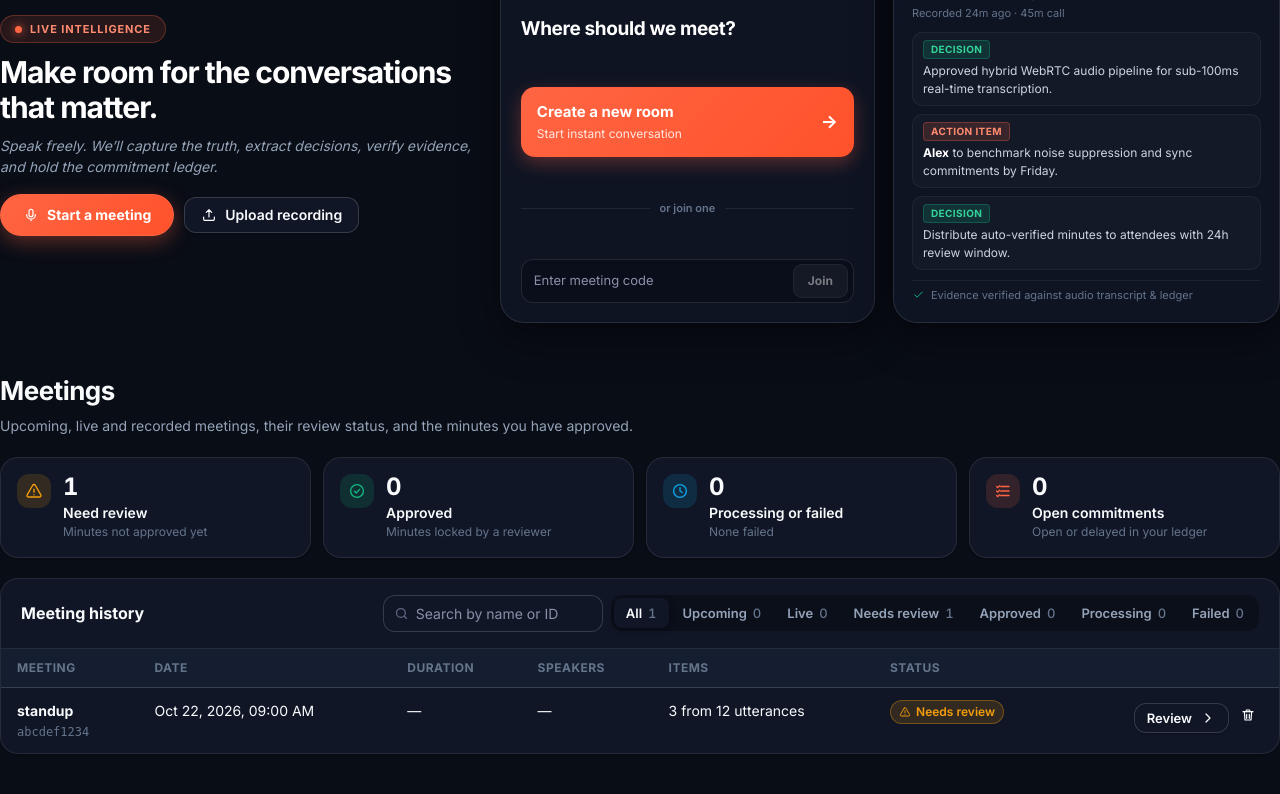
Scenario: Previous meetings › deletes a meeting only after confirmation
(page scrolled)
Cancelling the dialog deletes nothing.
What coordinates should you click on to do the following:
click the button named "Delete meeting abcdef1234"
I would click on:
 (1248, 715)
Its box is [1233,700,1263,730].
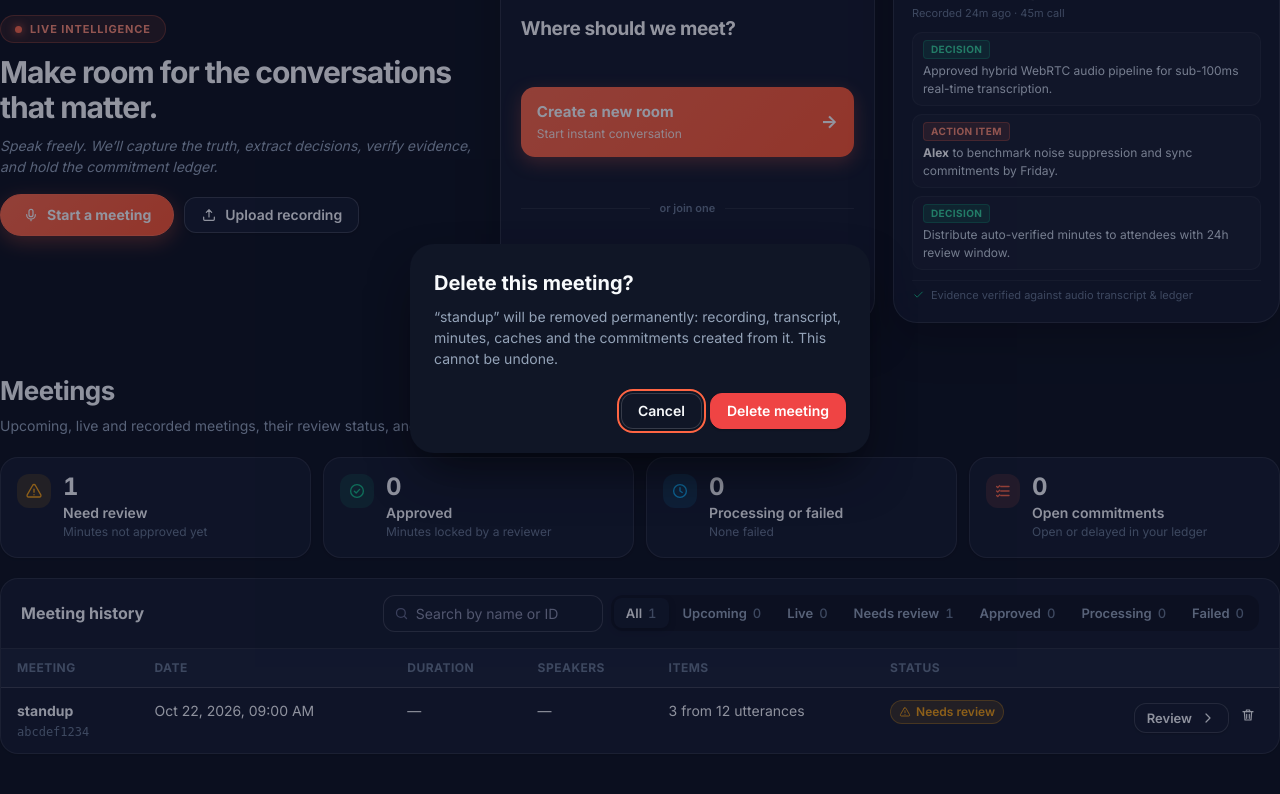
What coordinates should you click on to do the following:
click the button "Cancel"
I would click on:
 (661, 412)
Its box is [621,394,702,430].
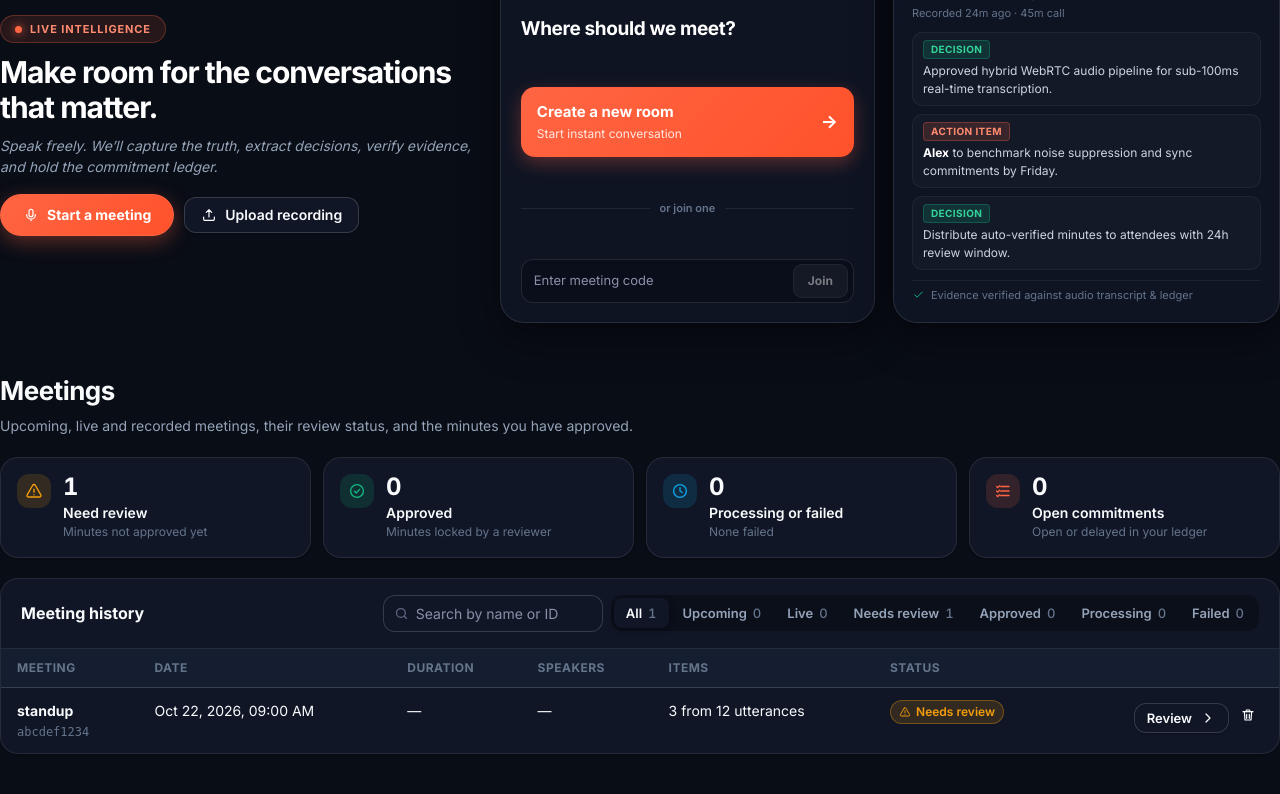
Check: the button "standup" is shown, box [17,700,122,721]
Check: the dialog is gone
What coordinates should you click on to do the following:
click the button named "Delete meeting abcdef1234"
I would click on:
 (1248, 715)
Its box is [1233,700,1263,730].
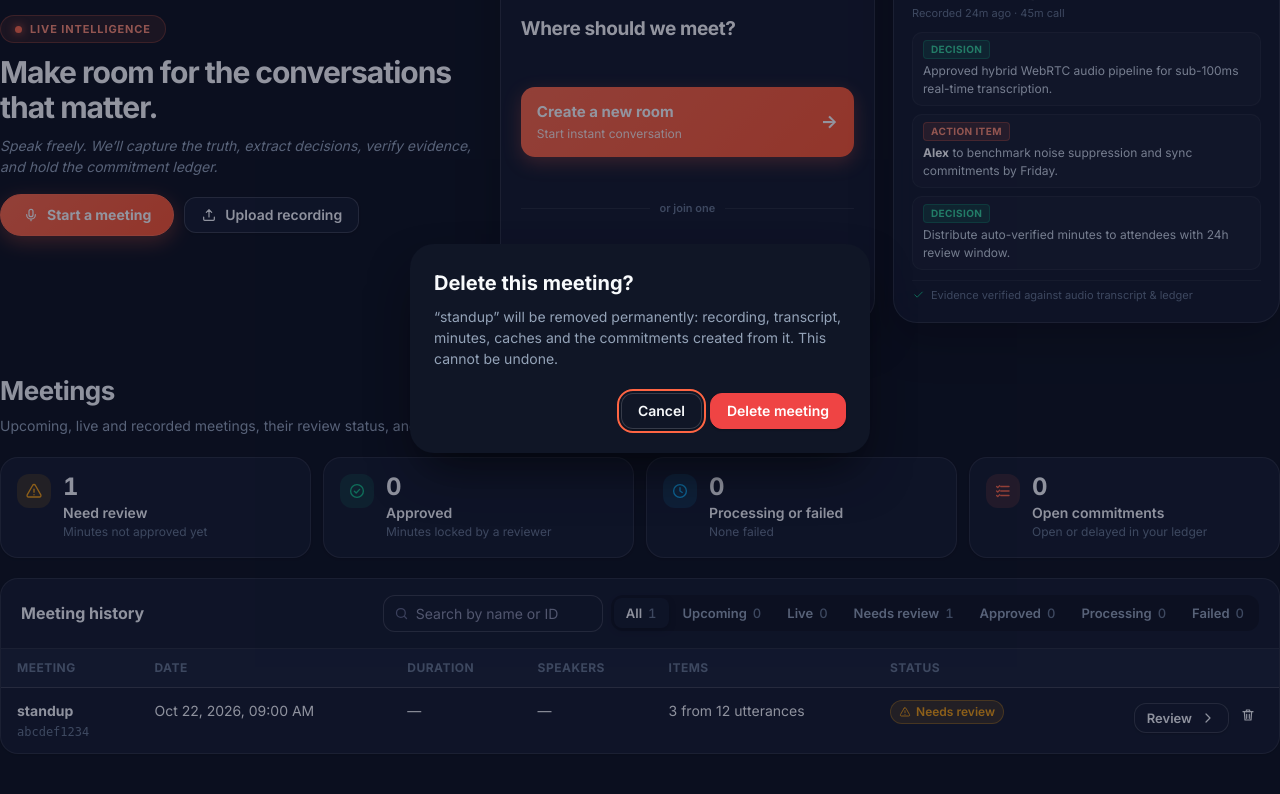
What coordinates should you click on to do the following:
click the button "Delete meeting"
I would click on:
 (778, 412)
Its box is [710,394,846,430].
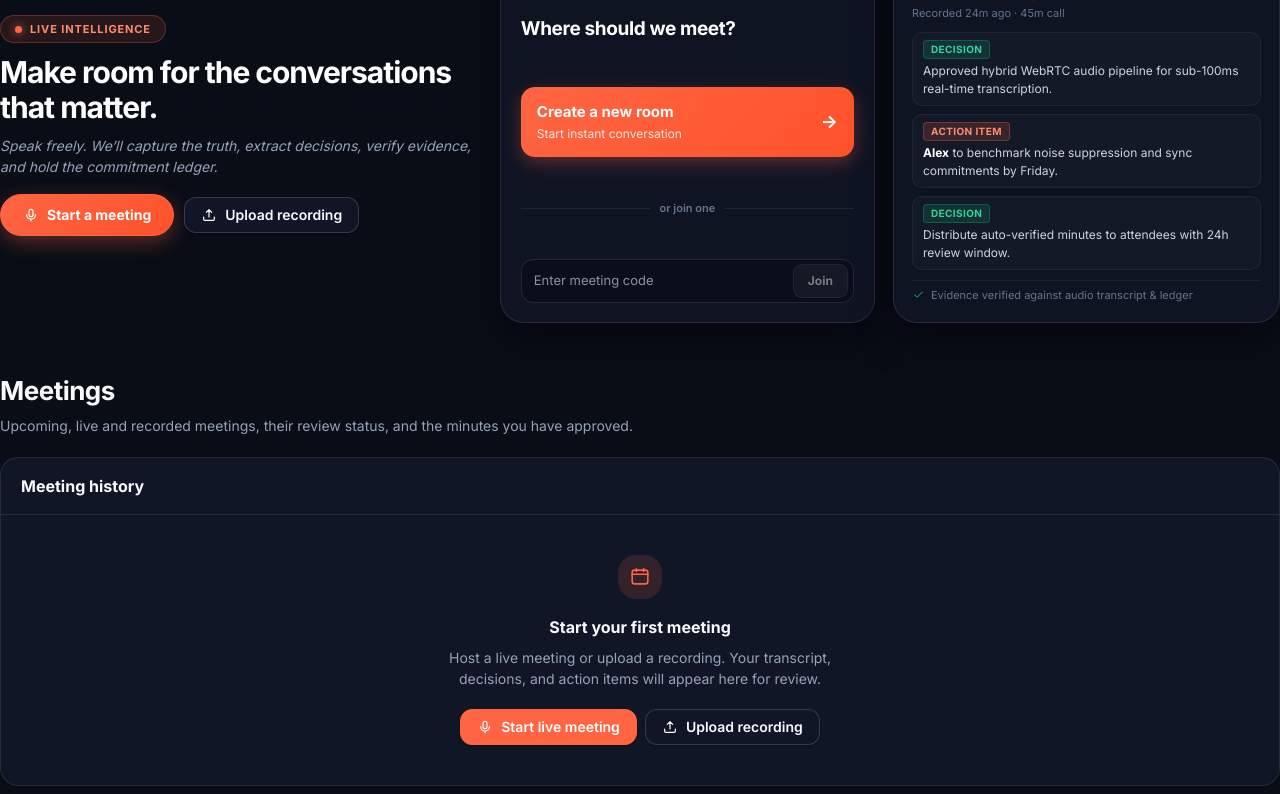
Check: the button "standup" is gone
